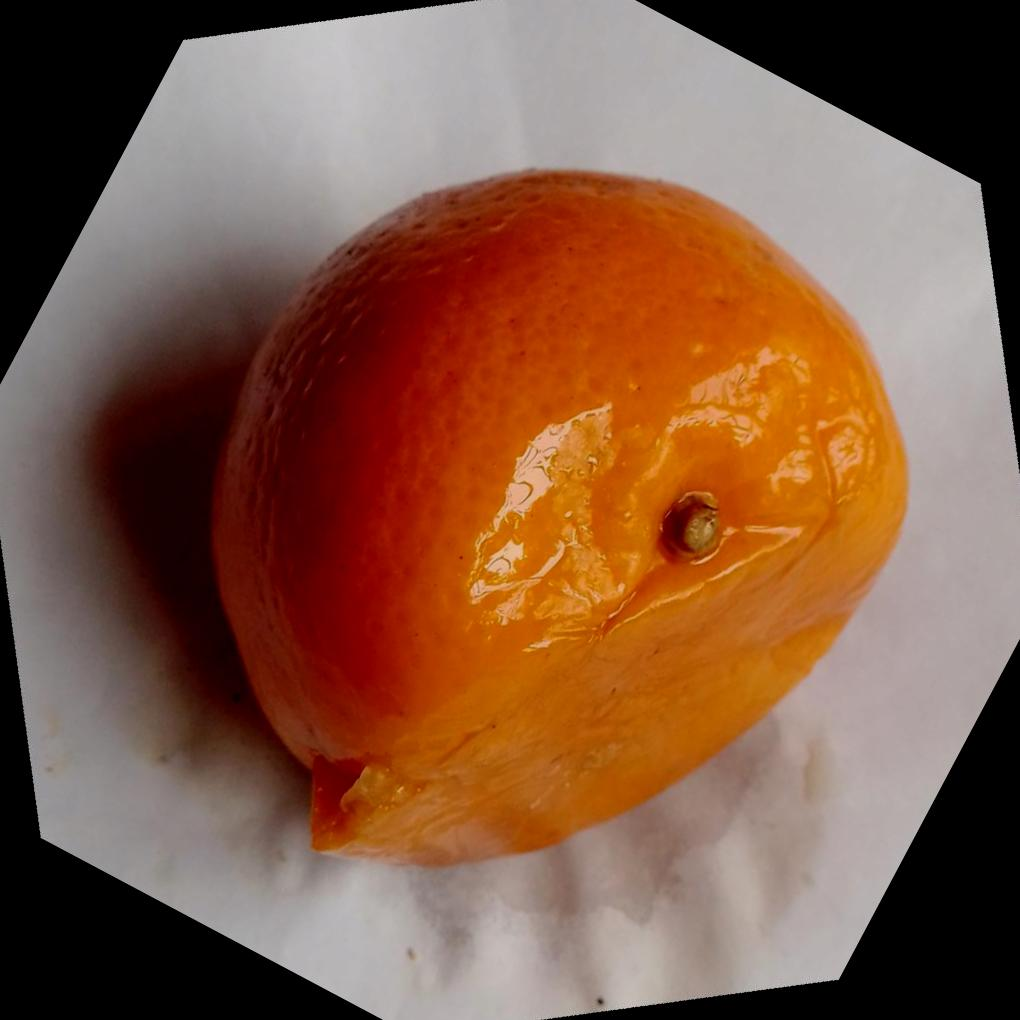FreshOrange: (204, 167, 915, 873)
